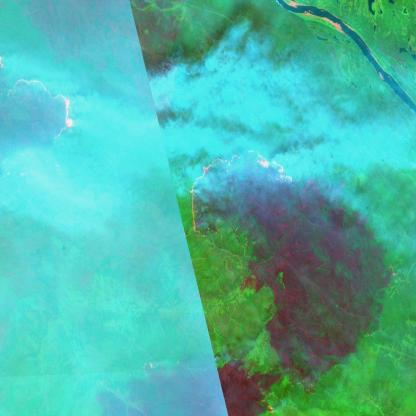fire: (185, 145, 291, 244), (0, 67, 73, 147)
